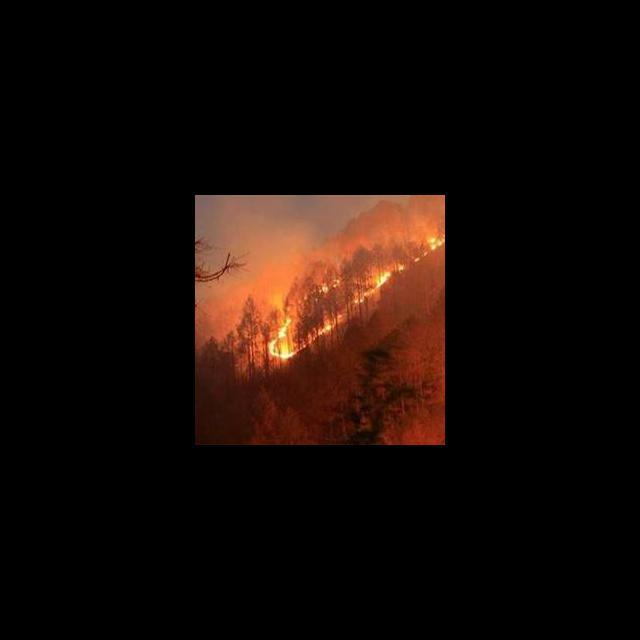Fire: (265, 232, 444, 367)
